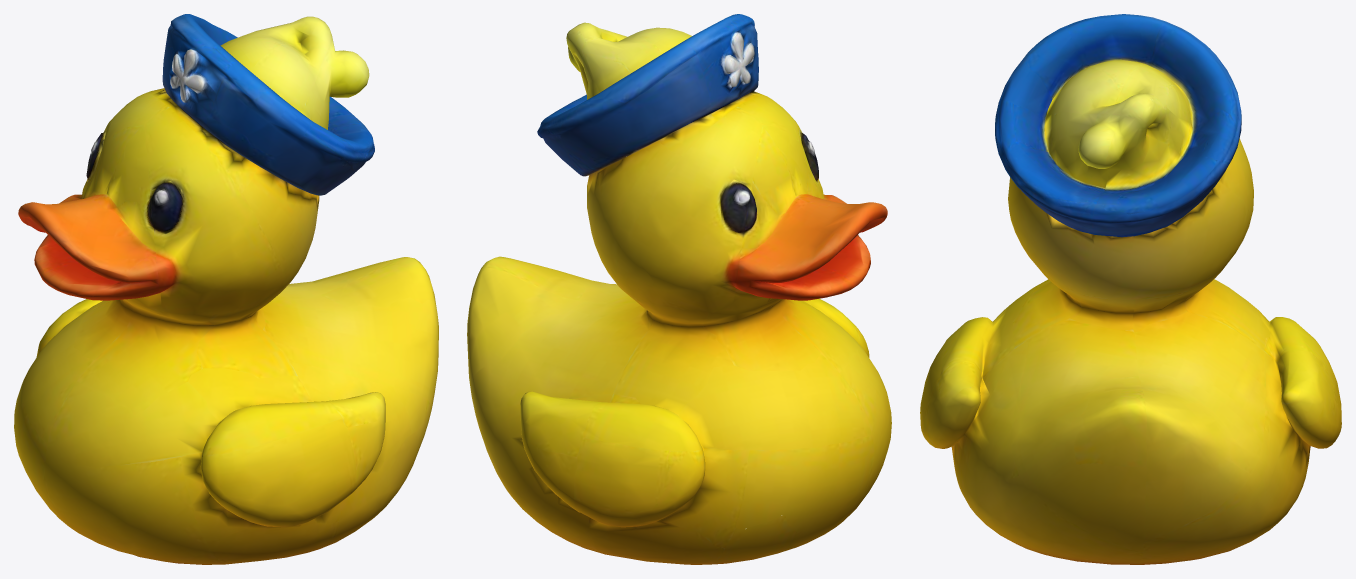
Rendered from duck.glb.
The picture shows the model from 3 angles, left to right: view 1: azimuth 30°, elevation 25°; view 2: azimuth 150°, elevation 25°; view 3: azimuth 270°, elevation 25°; orthographic projection.
Parts seen in each view (by area): view 1: prop; view 2: prop; view 3: prop.
Part boxes in pixels (x1,y1,x2,y2): prop: (14, 14, 438, 564); prop: (467, 14, 891, 564); prop: (920, 14, 1341, 564).
Bounding box in the file's own units: 0.8379 × 1 × 0.79.
1 material, 1 textured.
